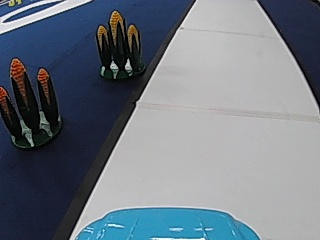corn: (0, 57, 66, 148), (93, 8, 145, 79)
